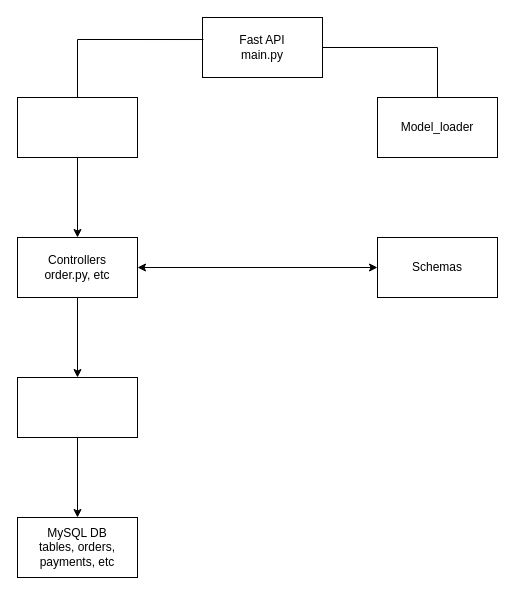
Image size: 515x595. Some labels were removed from this diagram. Here are the shapes that lost their labels. From the top down, the box of each, then its label:
(16, 96, 138, 158): Routers orders.py, etc
(16, 376, 138, 438): Models SQLAlchemy: base classes
